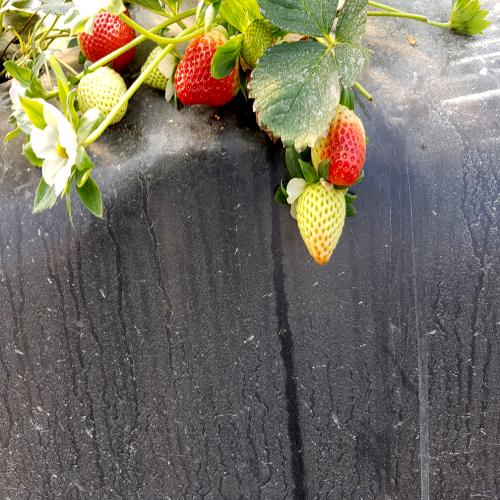partially-ripe: (300, 102, 375, 194)
ripe: (165, 23, 242, 111)
unripe: (291, 179, 349, 273)
